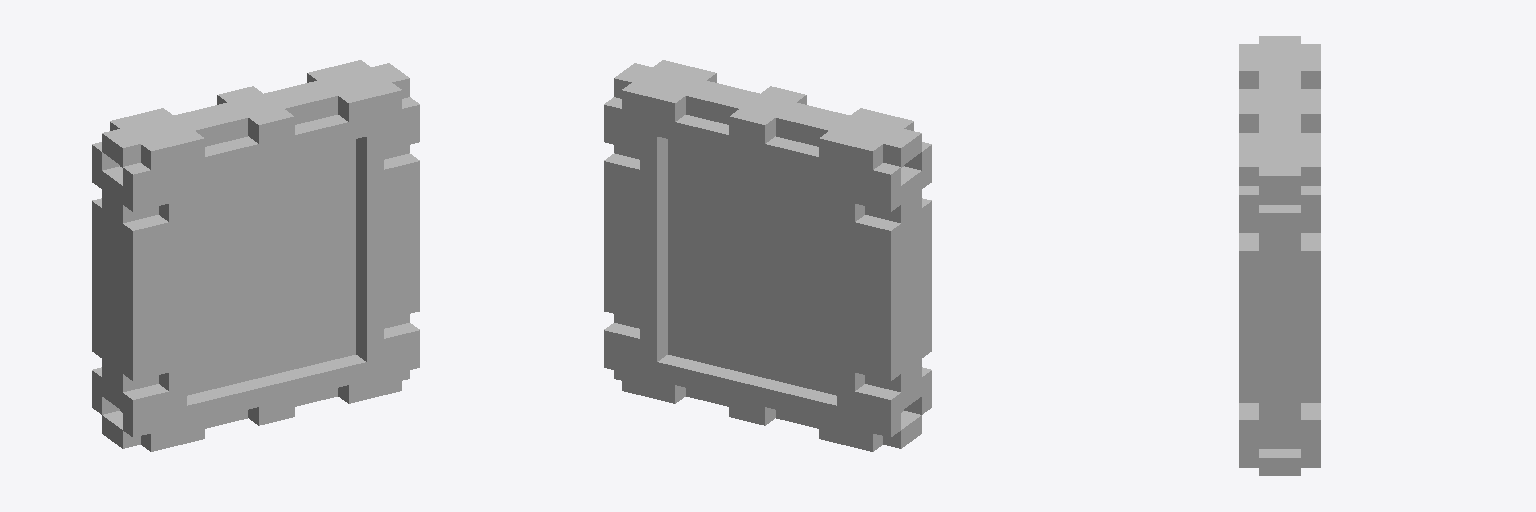
The model's file is gate.obj.
The picture shows the model from 3 angles: view 1: azimuth 30°, elevation 25°; view 2: azimuth 150°, elevation 25°; view 3: azimuth 270°, elevation 25°; orthographic projection.
Size of the model in its own units: 16 by 16 by 4.